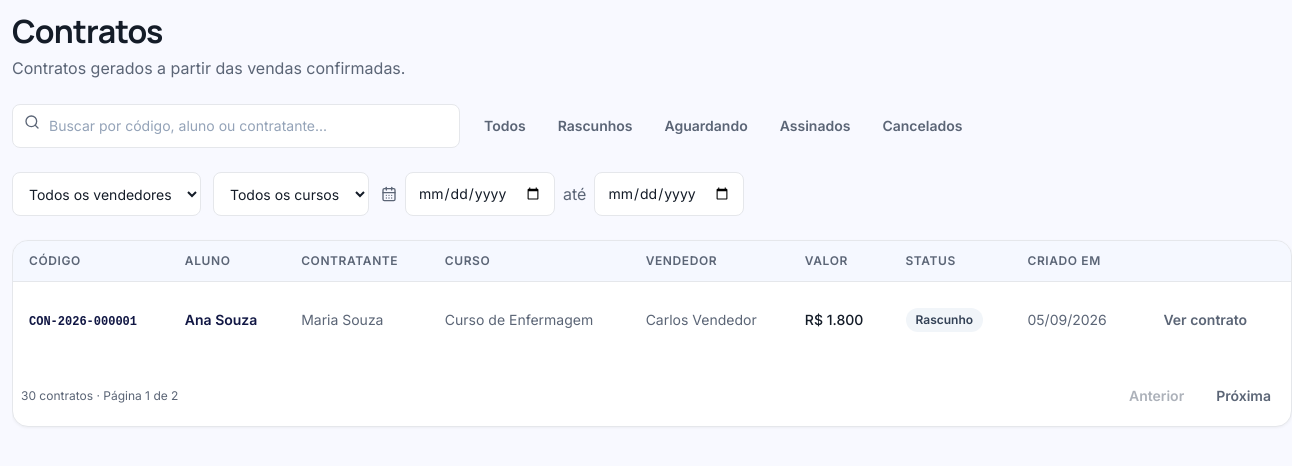
Test: ContractsPage — persistência de filtros na URL (Fase 7) › alterar filtro atualiza a URL
Click the button "Rascunhos": [595, 126] box top-left (546, 104), bottom-right (644, 148)
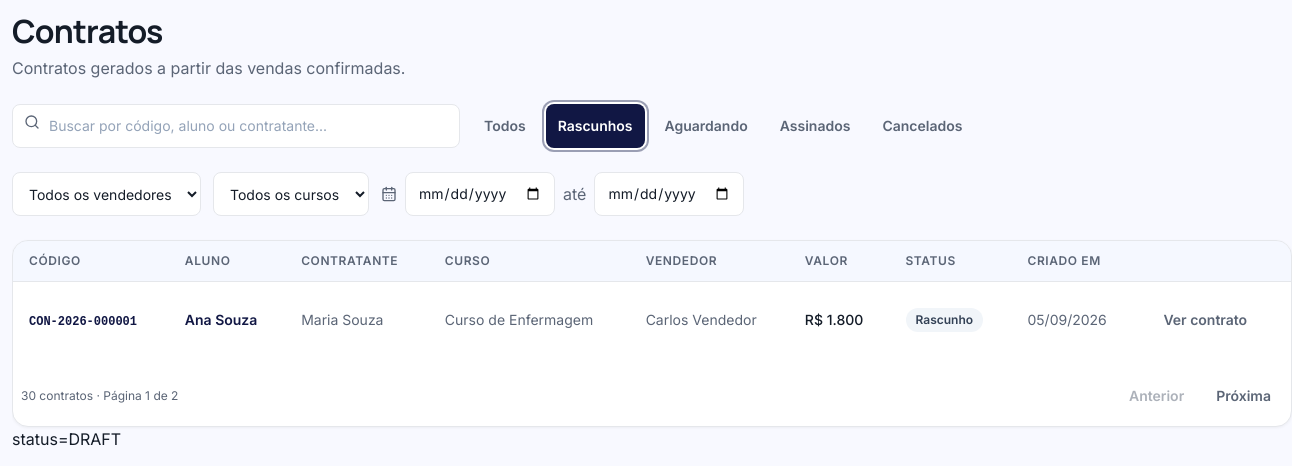
expect the text with test id "location-search" reads "status=DRAFT": met, box top-left (12, 429), bottom-right (121, 449)
